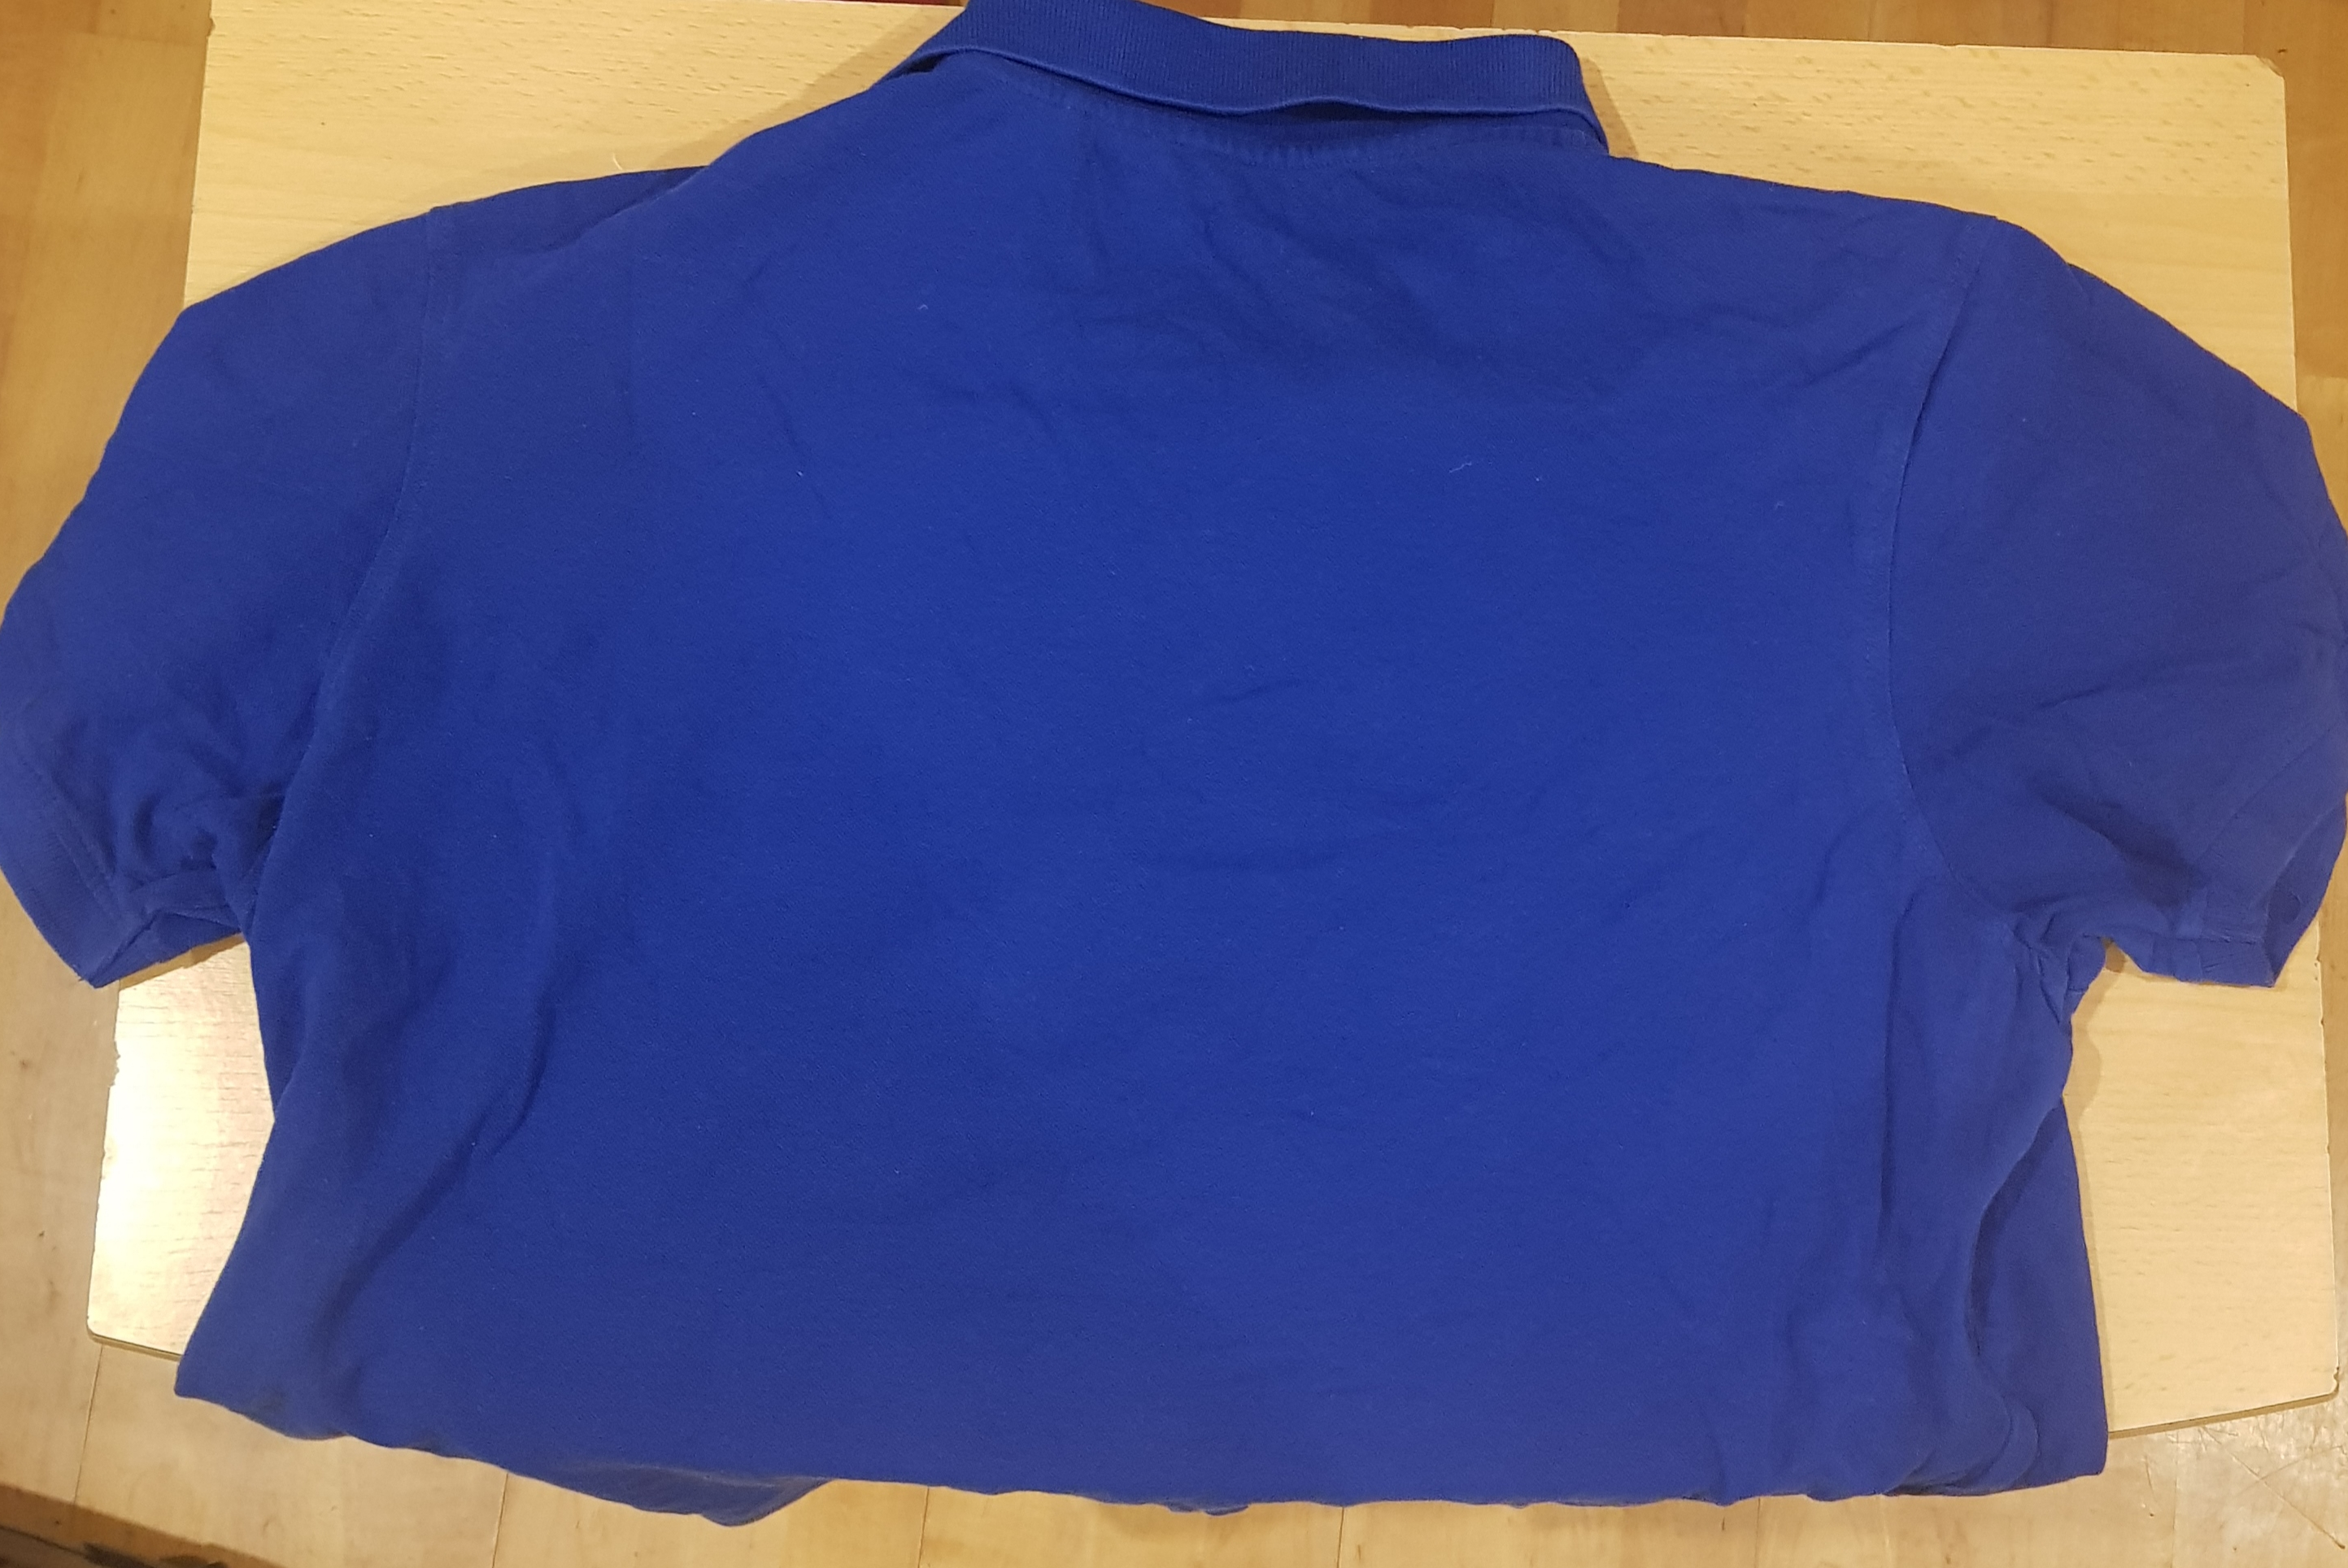Blue: (252, 10, 2247, 1512)
